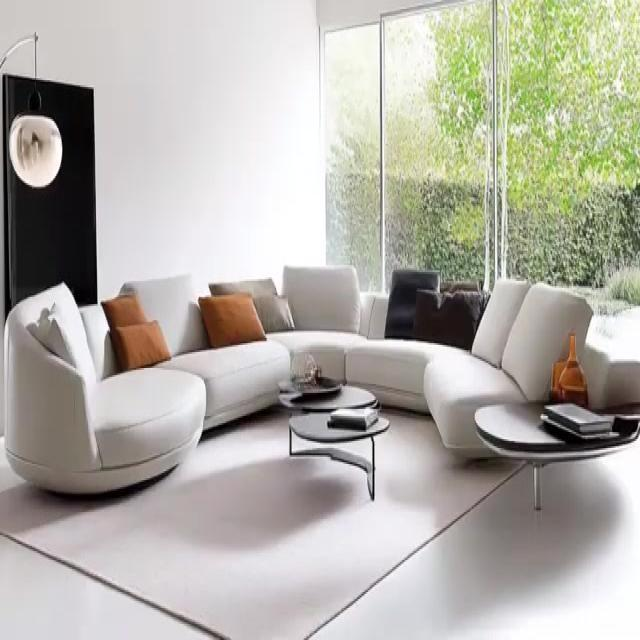obstacle: (3, 263, 639, 496), (473, 398, 639, 510), (276, 370, 390, 500)
